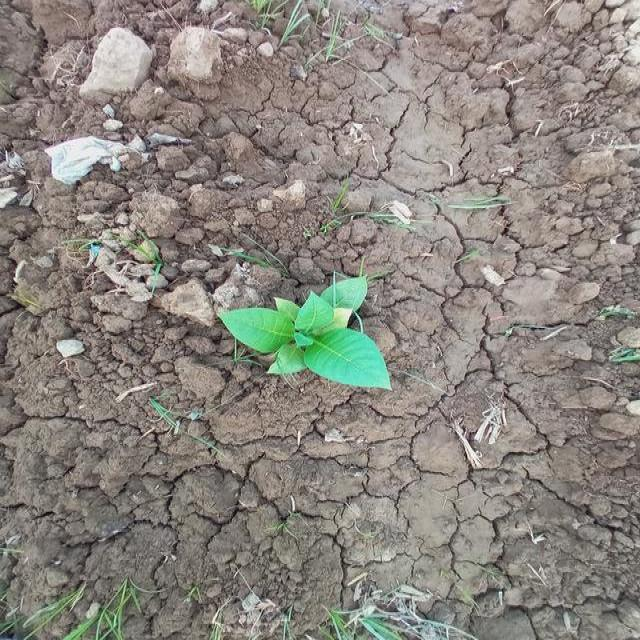crop: (230, 283, 384, 402)
